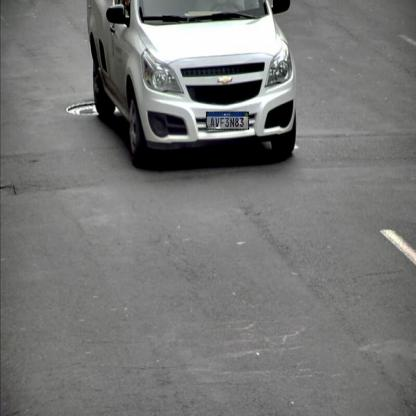PlacaM: (206, 112, 249, 130)
